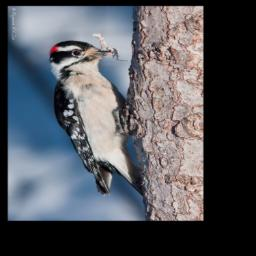Woodpecker: (48, 40, 141, 196)
